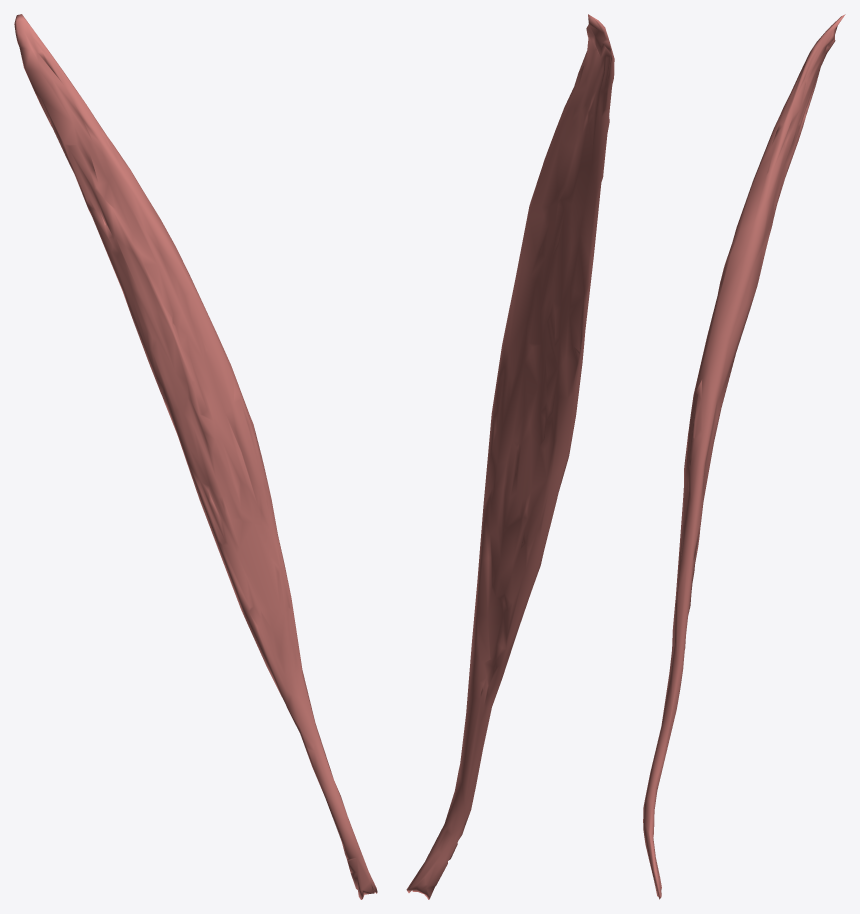
3 views of the same model, side by side, from view 1: azimuth 30°, elevation 25°; view 2: azimuth 150°, elevation 25°; view 3: azimuth 270°, elevation 25° (orthographic). The views are drawn at different scales.
Parts seen in each view (by area): view 1: ZA_8ef971f0d5b4ee0d; view 2: ZA_8ef971f0d5b4ee0d; view 3: ZA_8ef971f0d5b4ee0d.
Part boxes in pixels (<box>): ZA_8ef971f0d5b4ee0d: <box>14,14,377,899</box>; ZA_8ef971f0d5b4ee0d: <box>406,14,614,899</box>; ZA_8ef971f0d5b4ee0d: <box>643,14,845,899</box>.
Bounding box in the file's own units: 0.0906 × 0.2858 × 0.0676.
